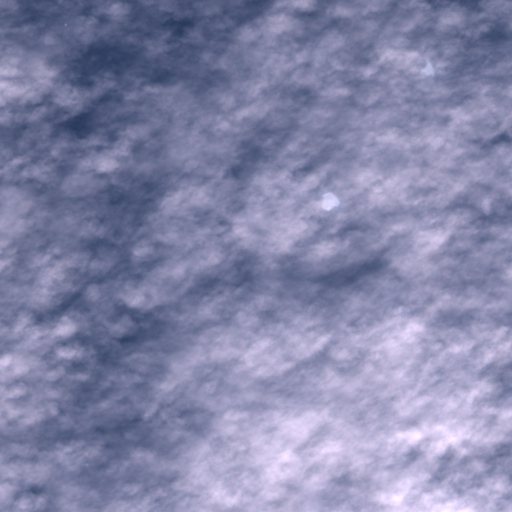Iceberg: (323, 192, 337, 209), (422, 63, 433, 74), (65, 24, 66, 25)
